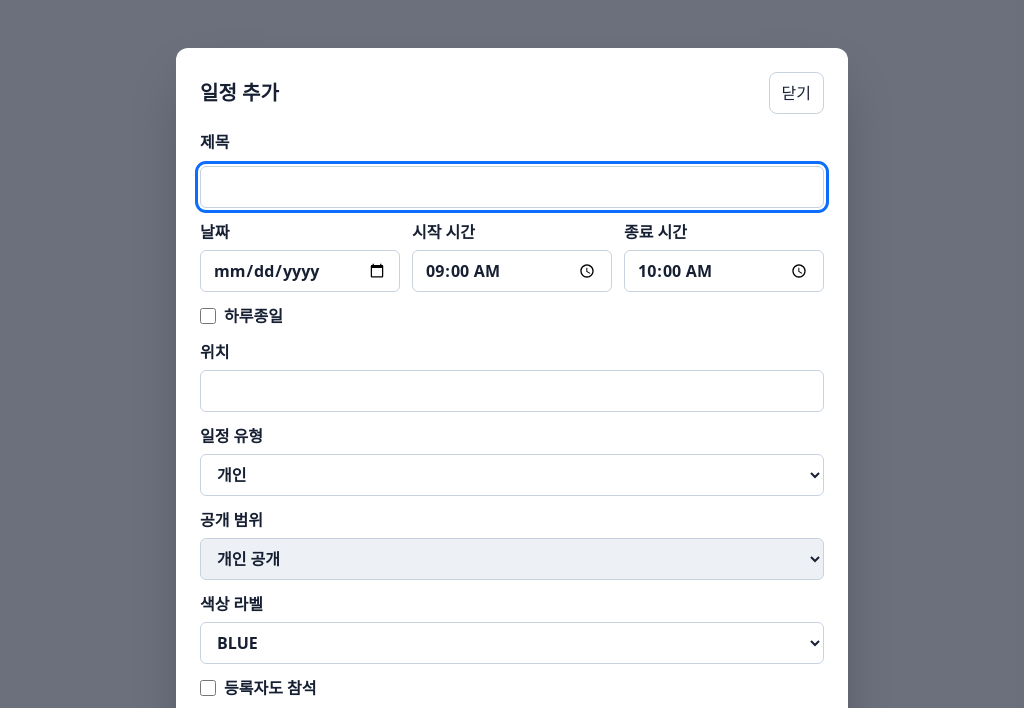
Test: ScheduleCreateModal › shows target option loading, empty, error and retry states without treating failures as empty
This screenshot has width=1024, height=708.
Step 1. Select "팀" in the dropdown labelled "일정 유형" → (512, 475), box top-left (200, 454), bottom-right (824, 496)
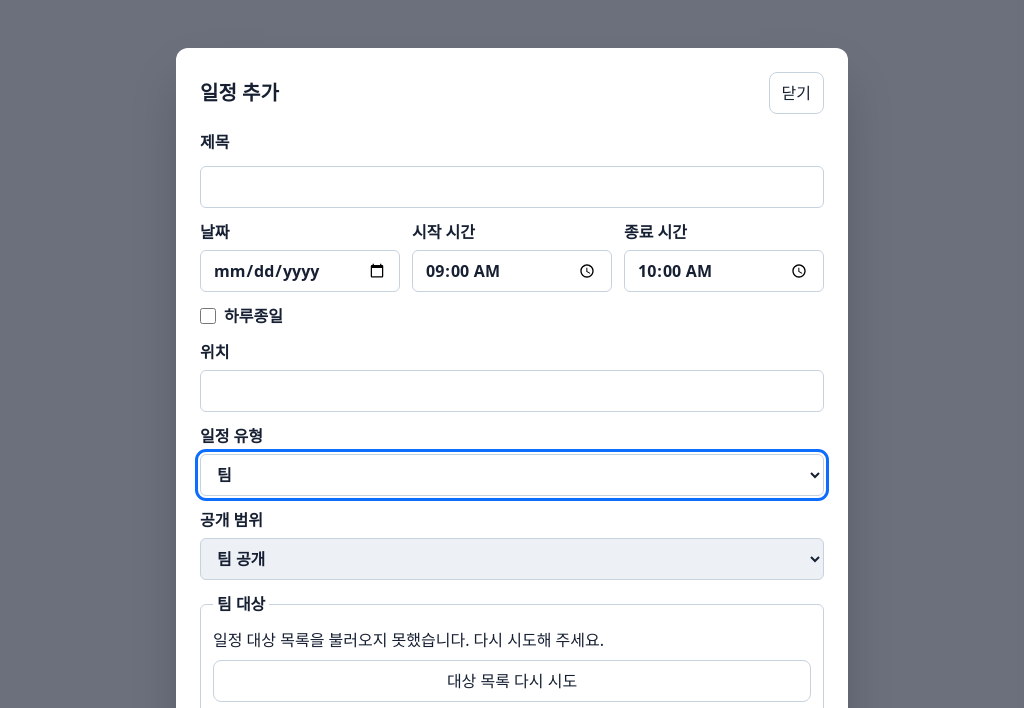
Expected: the text "선택 가능한 팀이 없습니다." is not shown
Expected: the message shows "일정 대상 목록을 불러오지 못했습니다.", top-left (213, 629), bottom-right (604, 651)
Step 2. Click the button "대상 목록 다시 시도" → (512, 681), box top-left (213, 660), bottom-right (811, 702)
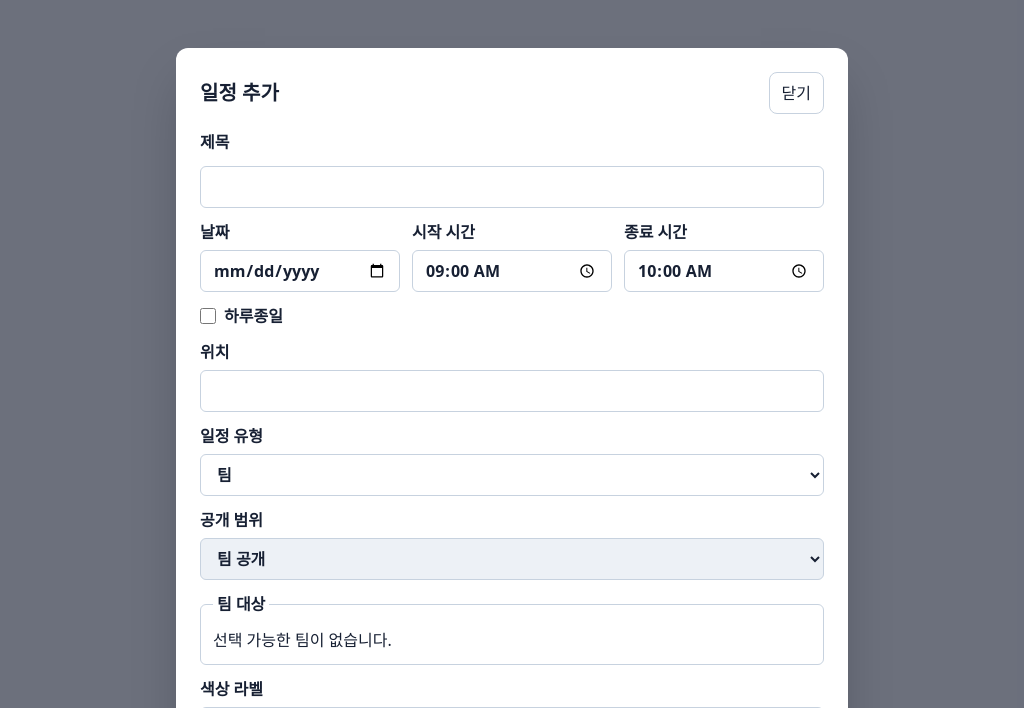
Expected: the text "선택 가능한 팀이 없습니다." is shown, top-left (213, 629), bottom-right (392, 651)
